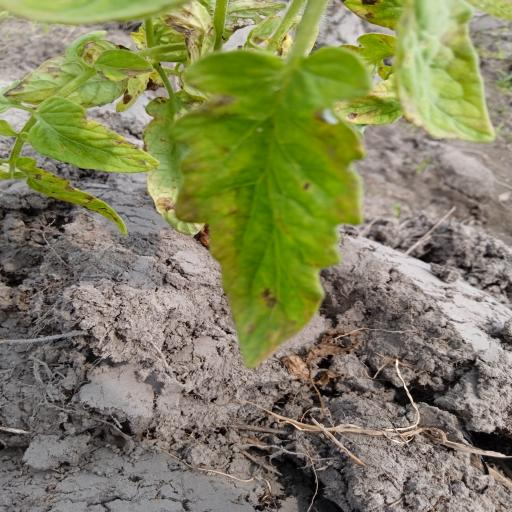Tomato_Brown_Spots: (157, 46, 375, 370), (24, 95, 161, 178)
